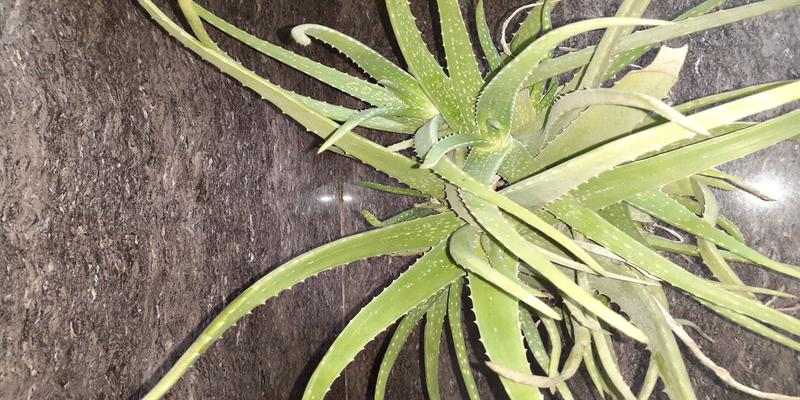Aloevera: (284, 36, 766, 381)
